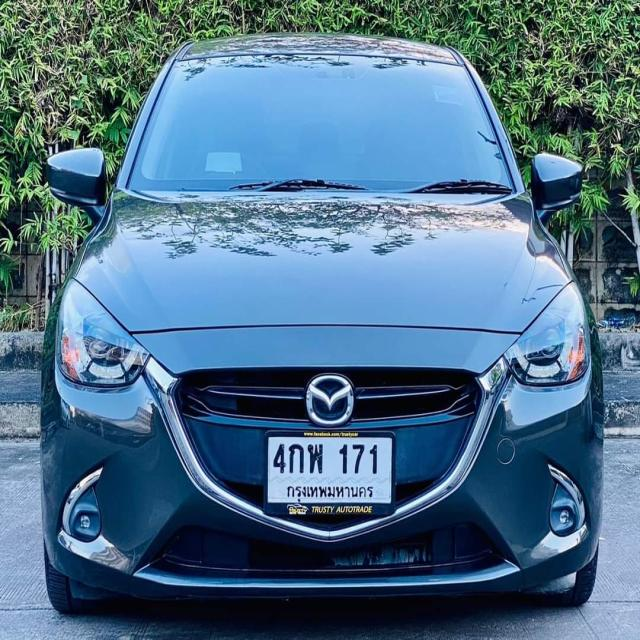license_plate: (263, 426, 396, 520)
